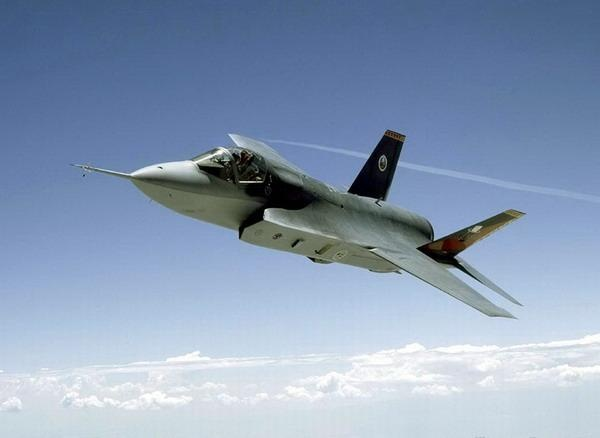airplane: (61, 122, 527, 322)
